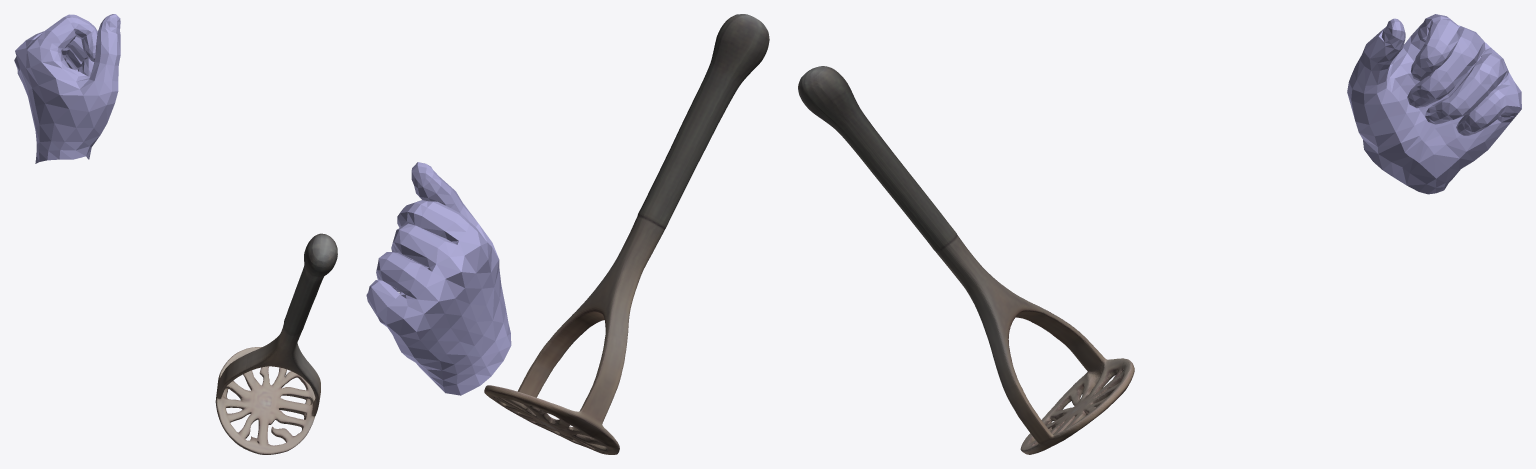
The model's file is frame_0014_source_000014_hand_object.glb.
The picture shows the model from 3 angles, left to right: view 1: azimuth 30°, elevation 25°; view 2: azimuth 150°, elevation 25°; view 3: azimuth 270°, elevation 25°; orthographic projection. The views are drawn at different scales.
Visible parts, largest first — view 1: world; view 2: world; view 3: world.
Boxes of the visible parts, x1,y1,x2,y2 form: world: (14,14,337,454); world: (366,14,769,454); world: (798,14,1521,454).
Bounding box in the file's own units: 0.1151 × 0.2616 × 0.4118.
